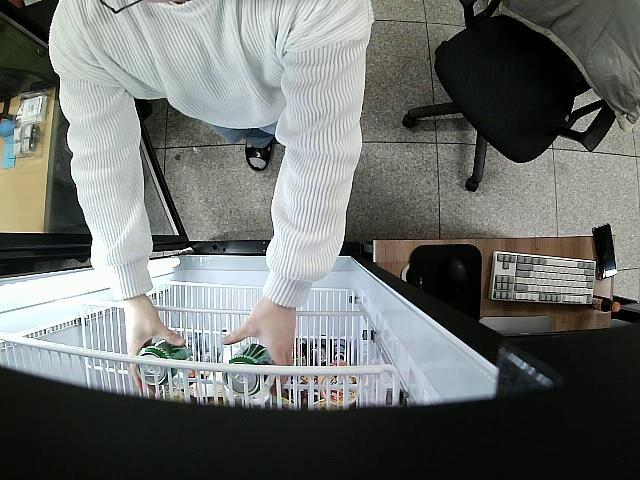12_chilsungCider: (222, 343, 276, 396), (134, 338, 194, 385)
